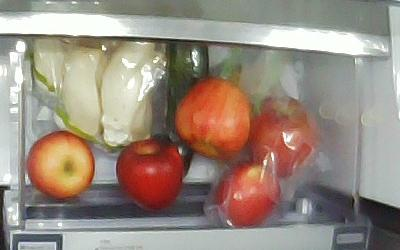apple: (172, 75, 251, 159), (115, 137, 185, 210), (25, 129, 95, 199)
apple_vinyl: (244, 92, 313, 177), (212, 155, 281, 226)
